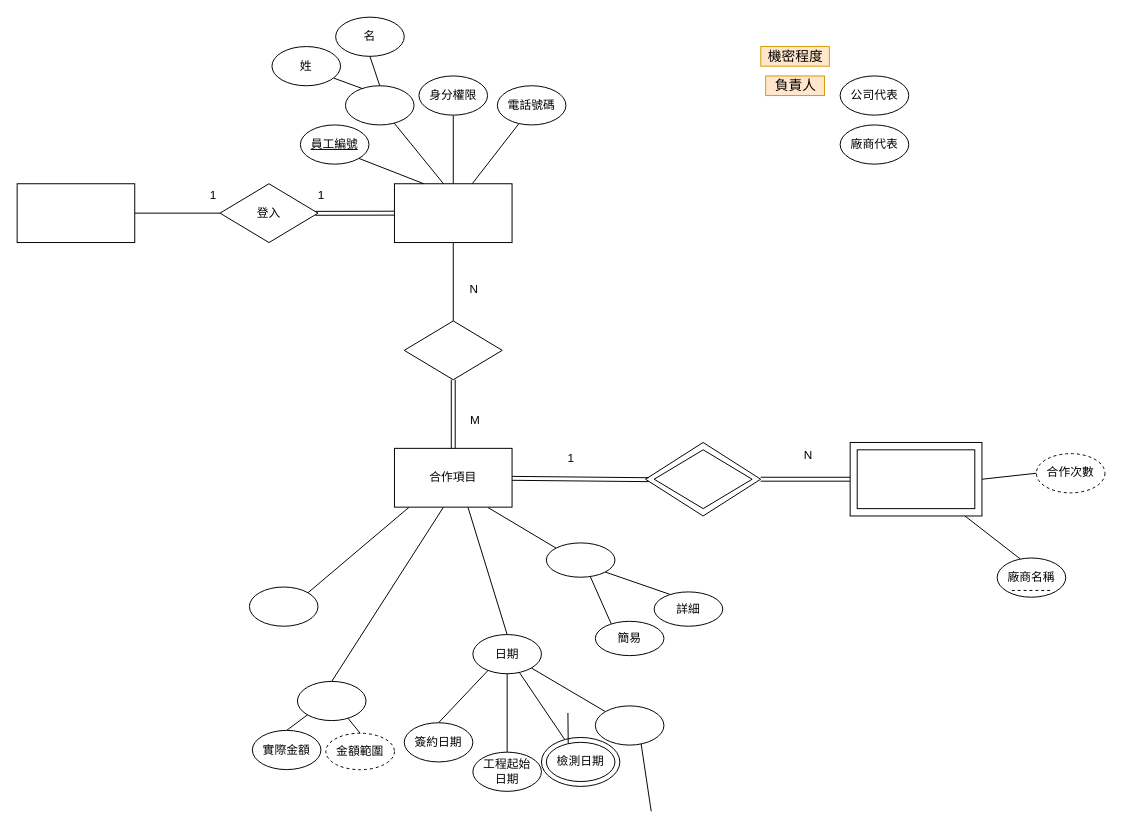
Image size: 1122x830. Some labels were removed from this diagram. Here are the shapes that lost their labels. From the top down, the centre of each, then its label:
(x=379, y=105): 姓名
(x=75, y=213): 使用者
(x=452, y=213): 員工帳戶
(x=452, y=350): 增/刪/查/改
(x=702, y=479): 合作
(x=915, y=479): 廠商
(x=580, y=559): 項目內容
(x=283, y=606): 項目名稱
(x=331, y=700): 金額
(x=629, y=725): 完工日期
